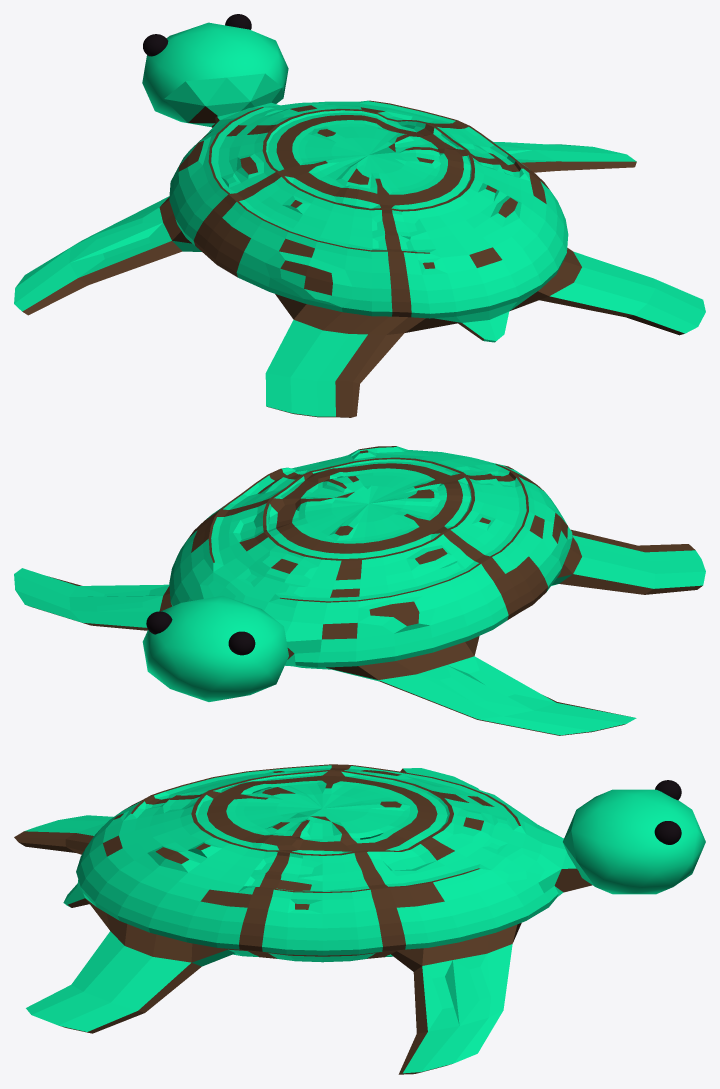
Rendered from toyturtlefinal.fbx.
The picture shows the model from 3 angles, top to bottom: view 1: azimuth 30°, elevation 25°; view 2: azimuth 150°, elevation 25°; view 3: azimuth 270°, elevation 25°; orthographic projection.
Parts seen in each view (by area): view 1: Turtle; view 2: Turtle; view 3: Turtle.
Part boxes in pixels (left/top/right/bottom): Turtle: left=14, top=14, right=705, bottom=417; Turtle: left=14, top=446, right=705, bottom=735; Turtle: left=14, top=764, right=705, bottom=1074.
Size of the model in its own units: 664 by 134 by 637.
